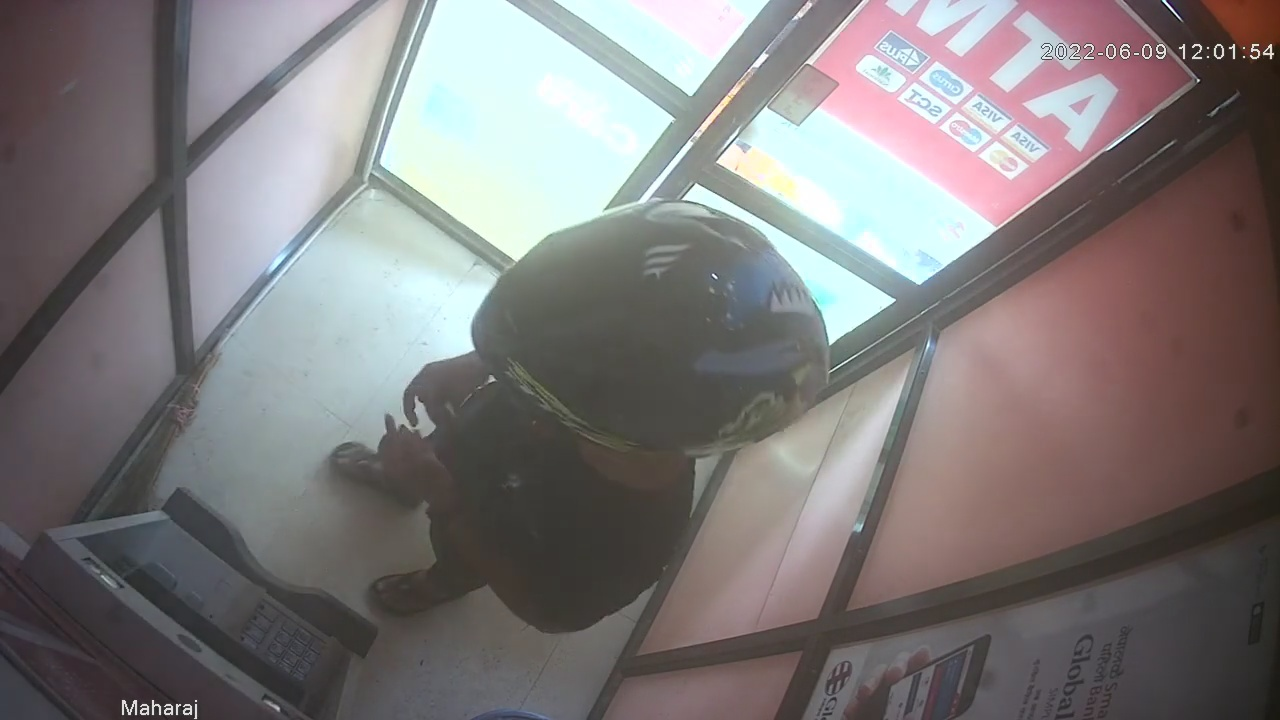helmet: (469, 197, 830, 460)
person: (325, 196, 830, 636)
